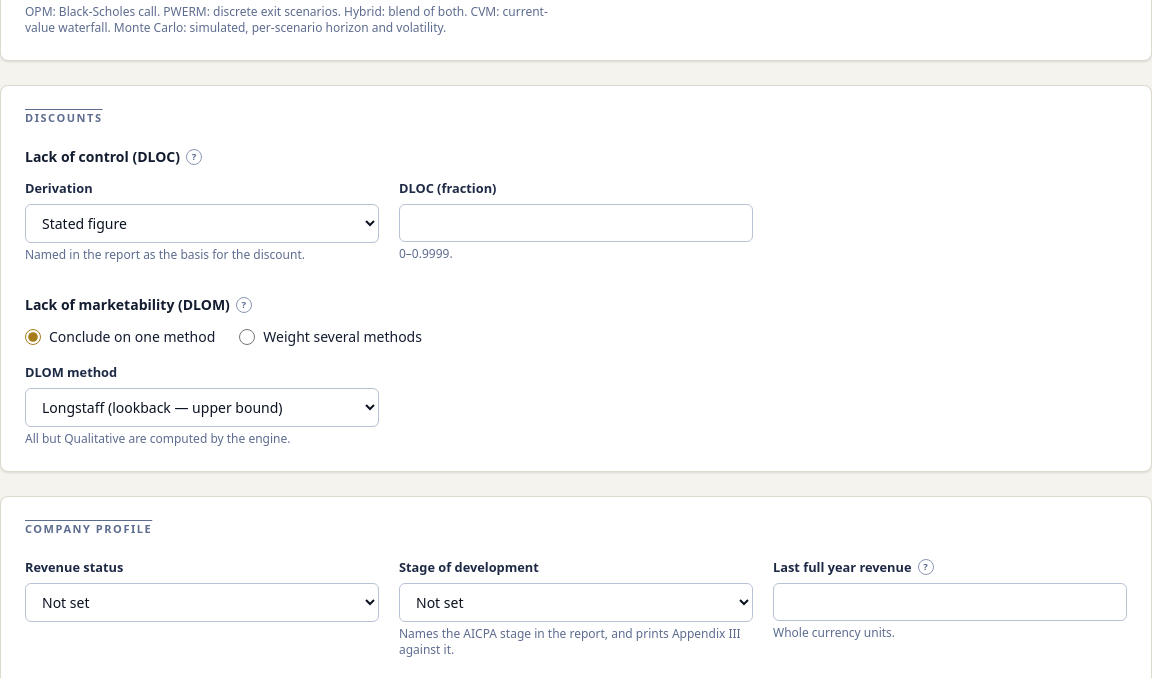
Test: ParamsPanel — edges › the DLOM form toggle › leaves a method typed into the single form alone on the way back
(page scrolled)
Expected: the dropdown with test id "dlom-method" is shown, x1=25 y1=388 x2=379 y2=427
Step 1. Click the radio button with test id "dlom-form-blend" → {"x": 247, "y": 337}, box x1=239 y1=329 x2=255 y2=345
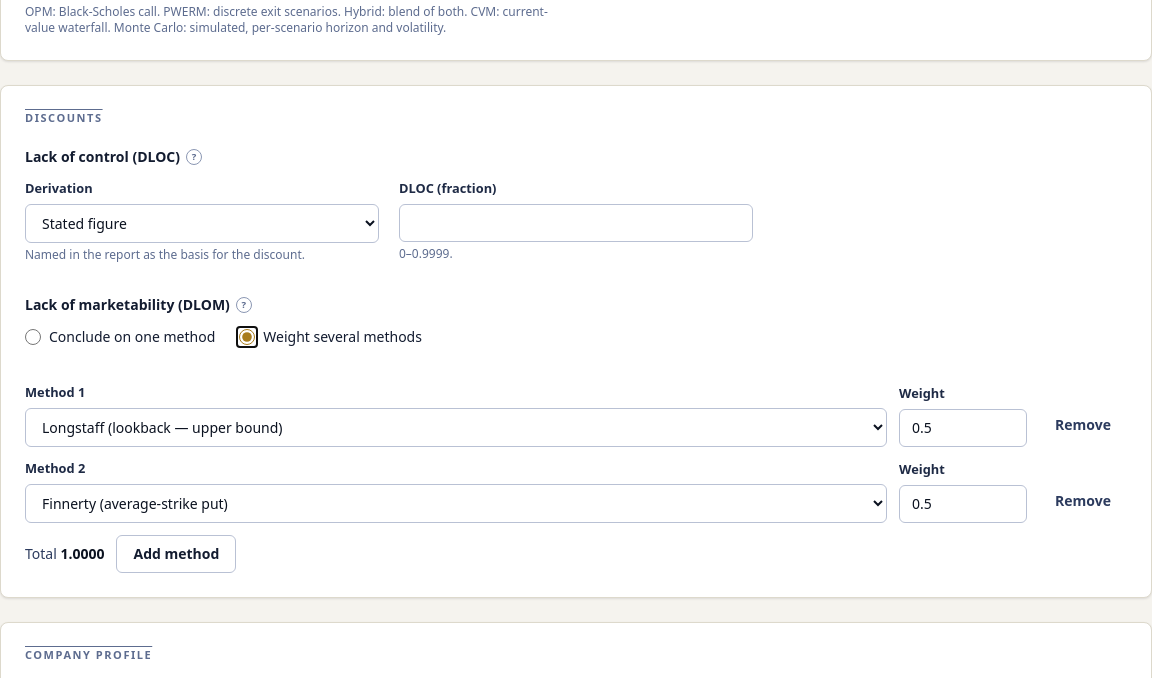
Step 2. Click the radio button with test id "dlom-form-single" → {"x": 33, "y": 337}, box x1=25 y1=329 x2=41 y2=345
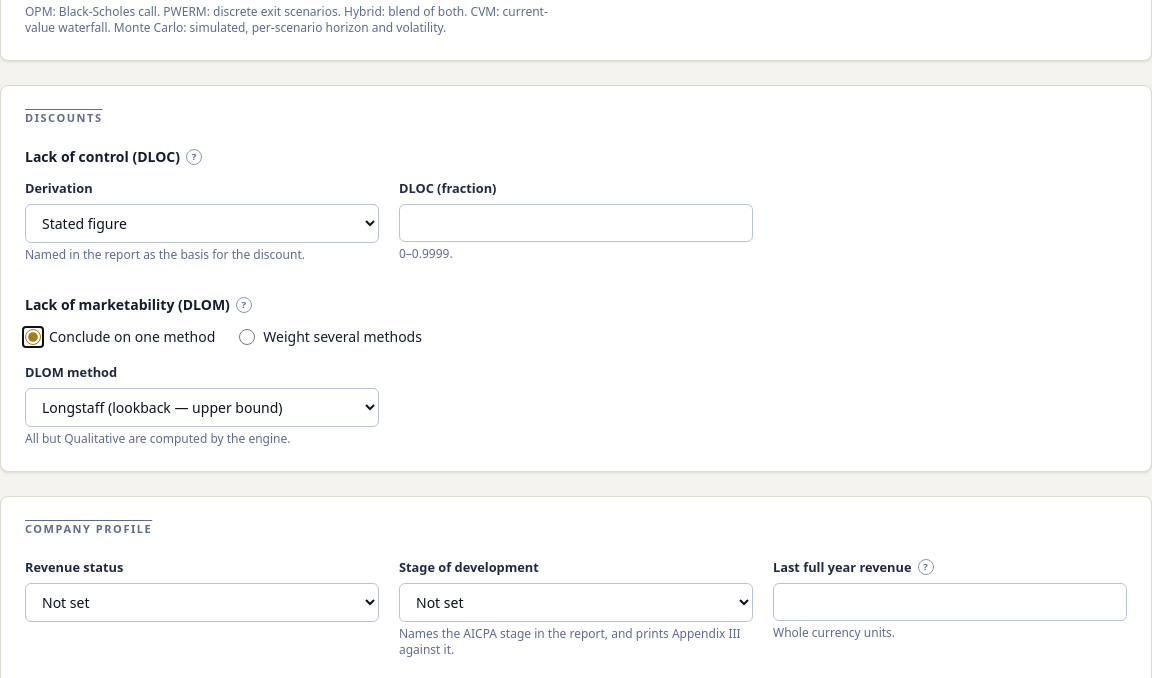
Step 3. Select "Ghaidarov (average-strike, corrected)" in the dropdown with test id "dlom-method" → {"x": 202, "y": 408}, box x1=25 y1=388 x2=379 y2=427
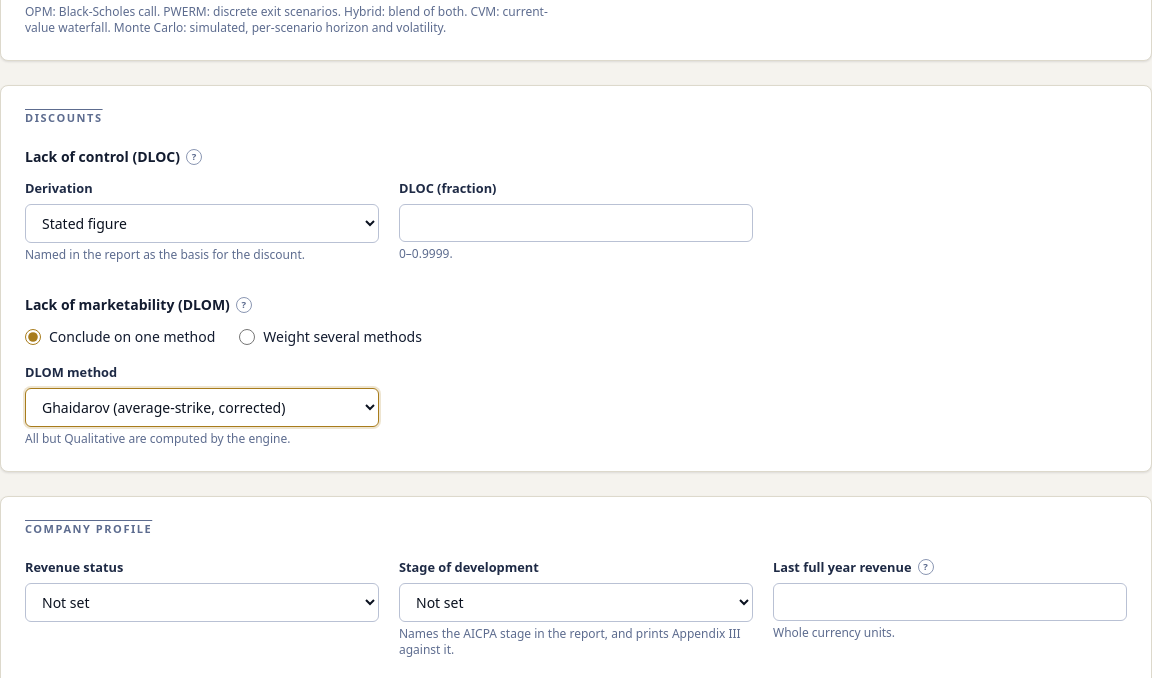
Step 4. Click the radio button with test id "dlom-form-blend" → {"x": 247, "y": 337}, box x1=239 y1=329 x2=255 y2=345
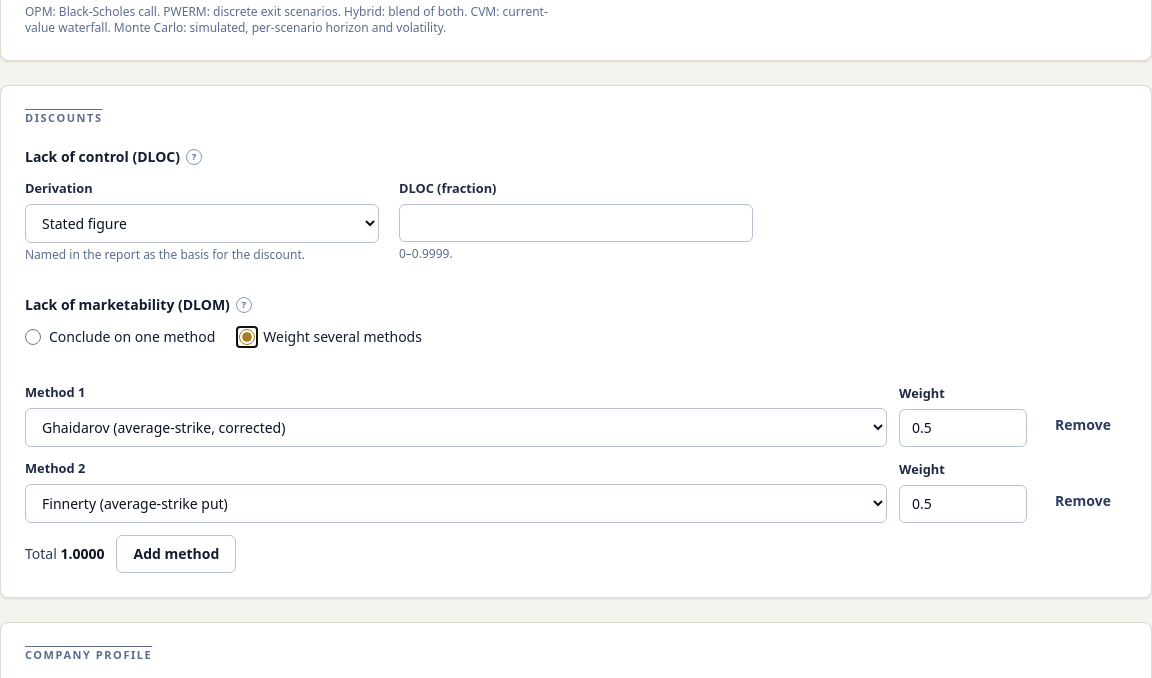
Step 5. Click the radio button with test id "dlom-form-single" → {"x": 33, "y": 337}, box x1=25 y1=329 x2=41 y2=345
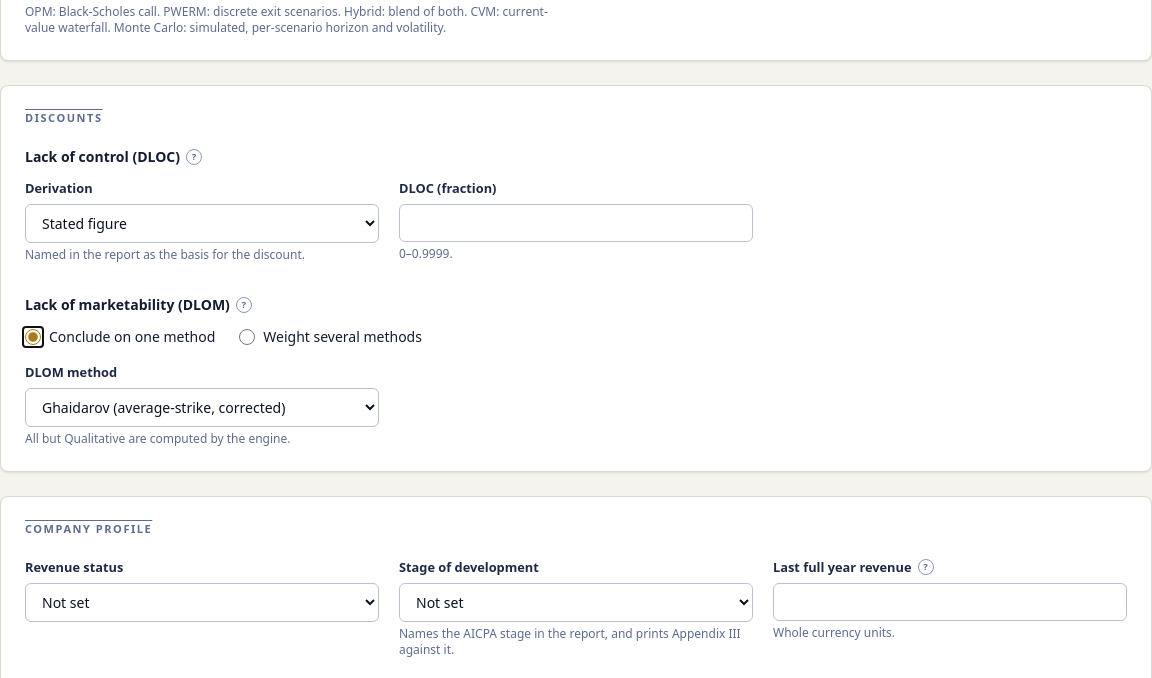
Result: the dropdown with test id "dlom-method" shows "Ghaidarov (average-strike, corrected)" at x1=25 y1=388 x2=379 y2=427
